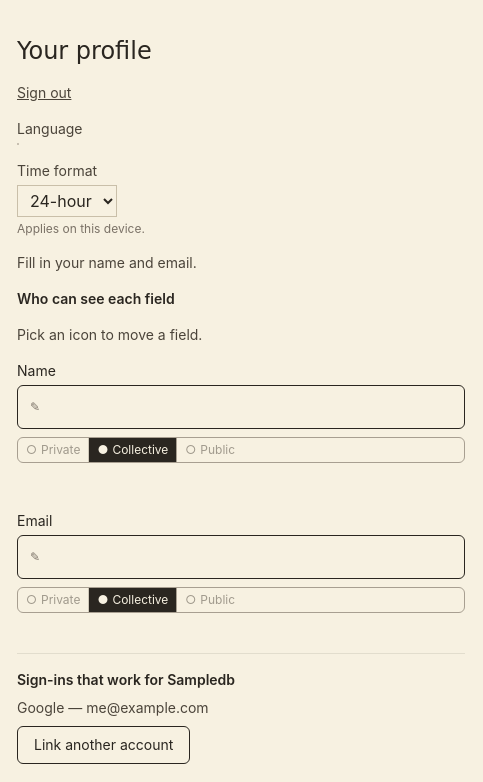
Scenario: /profile — "Link another account" flow (#193 AC2/AC3: native controls, mint at click time) › clicking the CTA reveals NATIVE per-provider controls — still no mint until a provider is picked
Expected: the element with test id "profile-field-name" is shown, [17,361,465,487]
Click the button with test id "profile-link-another" at (104,745), box [17,726,190,764]
(page scrolled)
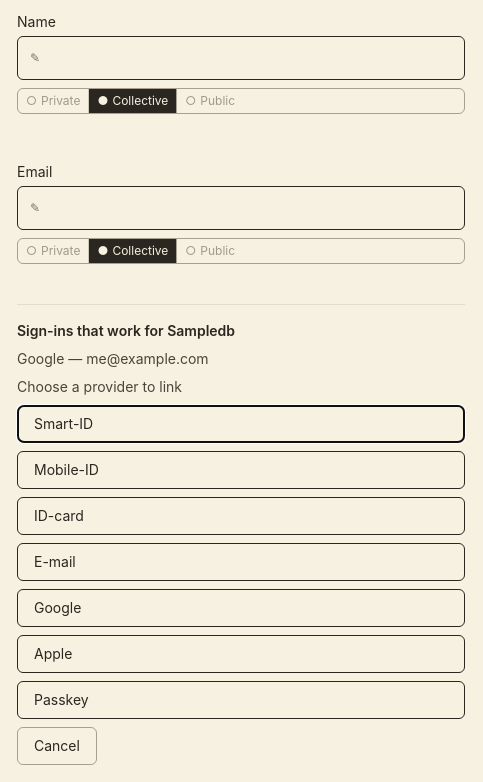
Result: the button with test id "profile-link-provider-google" is shown at [17,589,465,627]
